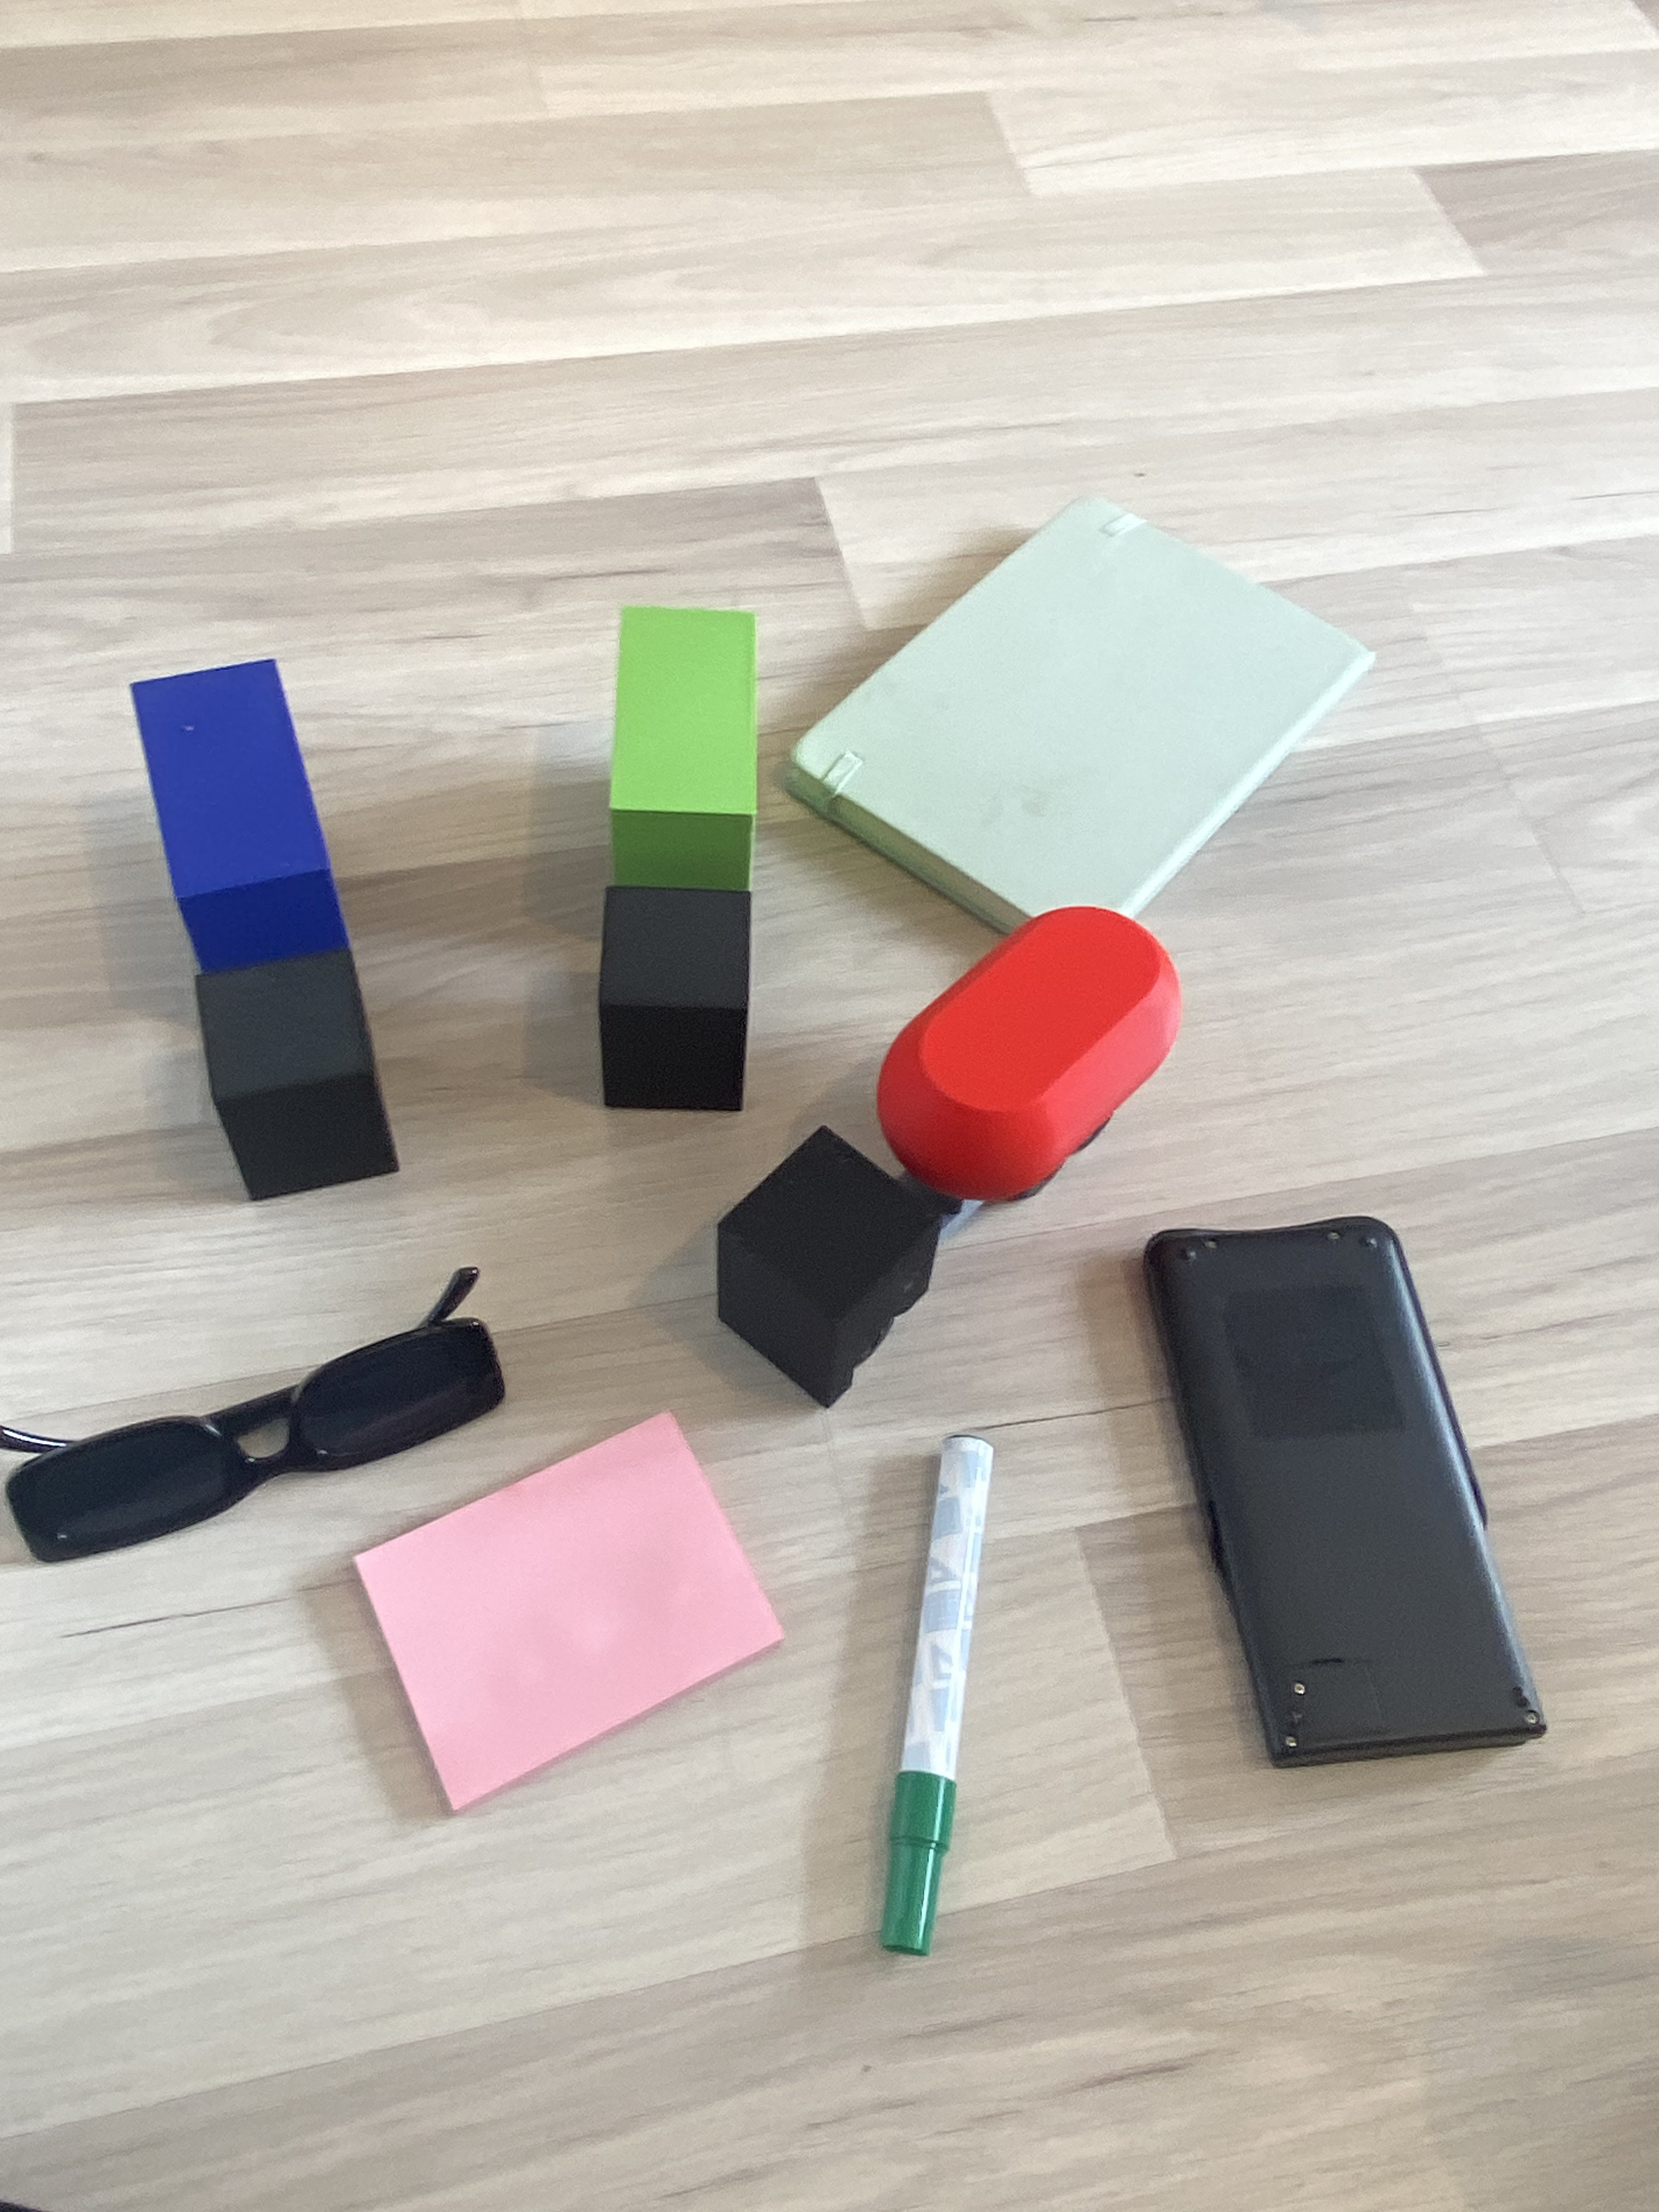blue_truck: (176, 651, 349, 1205)
green_truck: (596, 596, 767, 1109)
red_truck: (830, 841, 1053, 1449)
